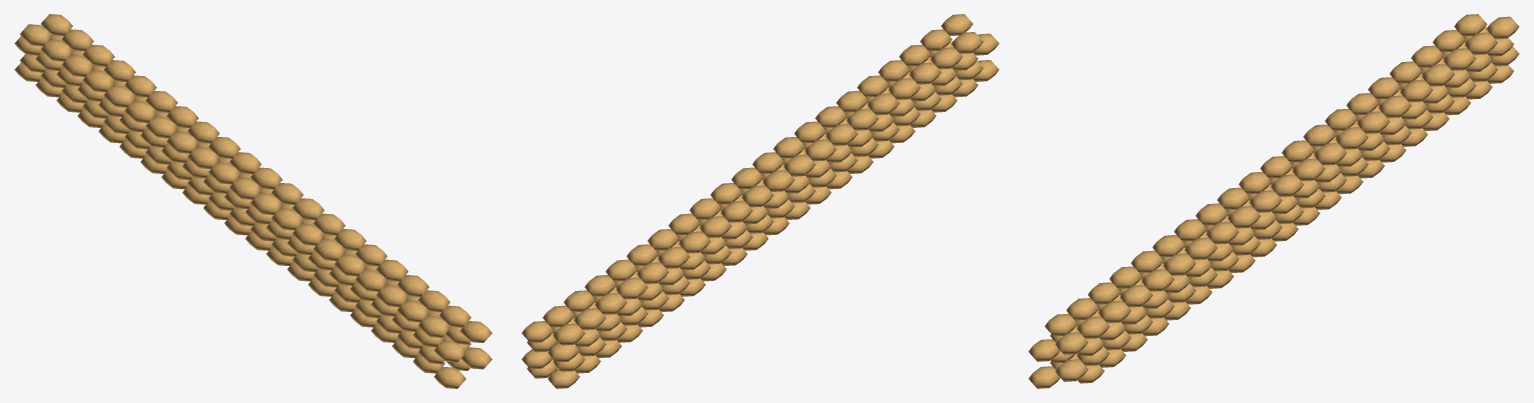
The model's file is p_sm_bags.glb.
The picture shows the model from 3 angles, left to right: view 1: azimuth 30°, elevation 25°; view 2: azimuth 150°, elevation 25°; view 3: azimuth 330°, elevation 25°; orthographic projection. The views are drawn at different scales.
Visible parts, largest first — view 1: p_sm_bags_lod0; view 2: p_sm_bags_lod0; view 3: p_sm_bags_lod0.
Boxes of the visible parts, box(x1,y1,x2,y2) form: p_sm_bags_lod0: box(14, 14, 492, 388); p_sm_bags_lod0: box(521, 14, 999, 388); p_sm_bags_lod0: box(1028, 14, 1519, 388).
Size of what is drawn, in the model's own units: 1.04 by 1.14 by 16.38.
1 material, 1 textured.
